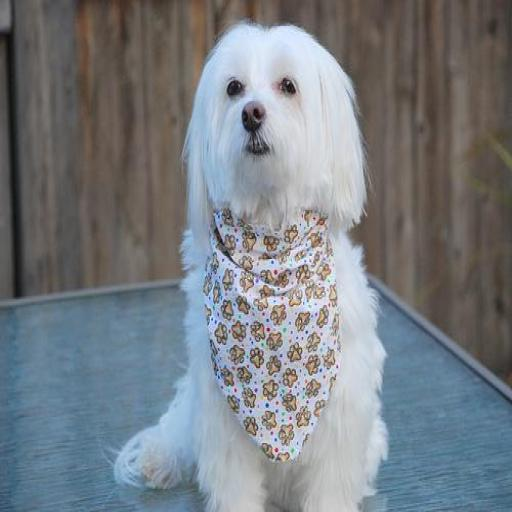dog_face: (185, 26, 353, 204)
